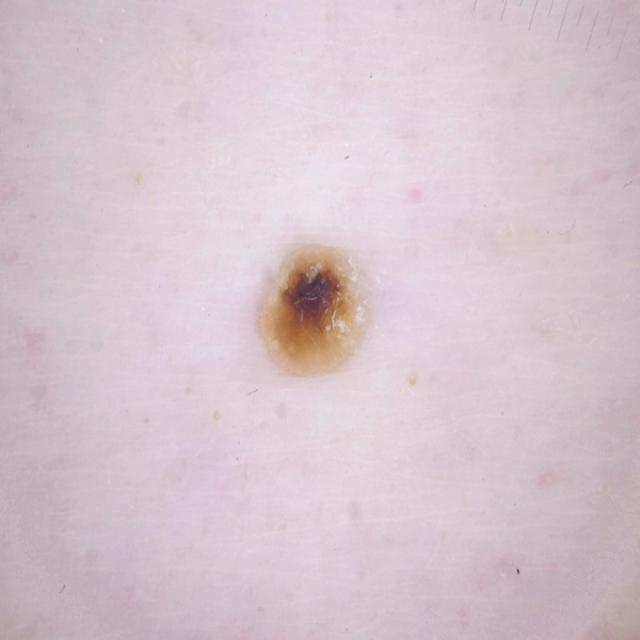Skin-Cancer Pigmented benign keratosis: (81, 7, 541, 556)
